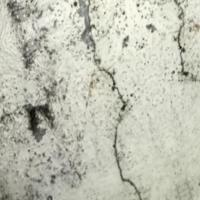crack: (78, 0, 180, 199)
